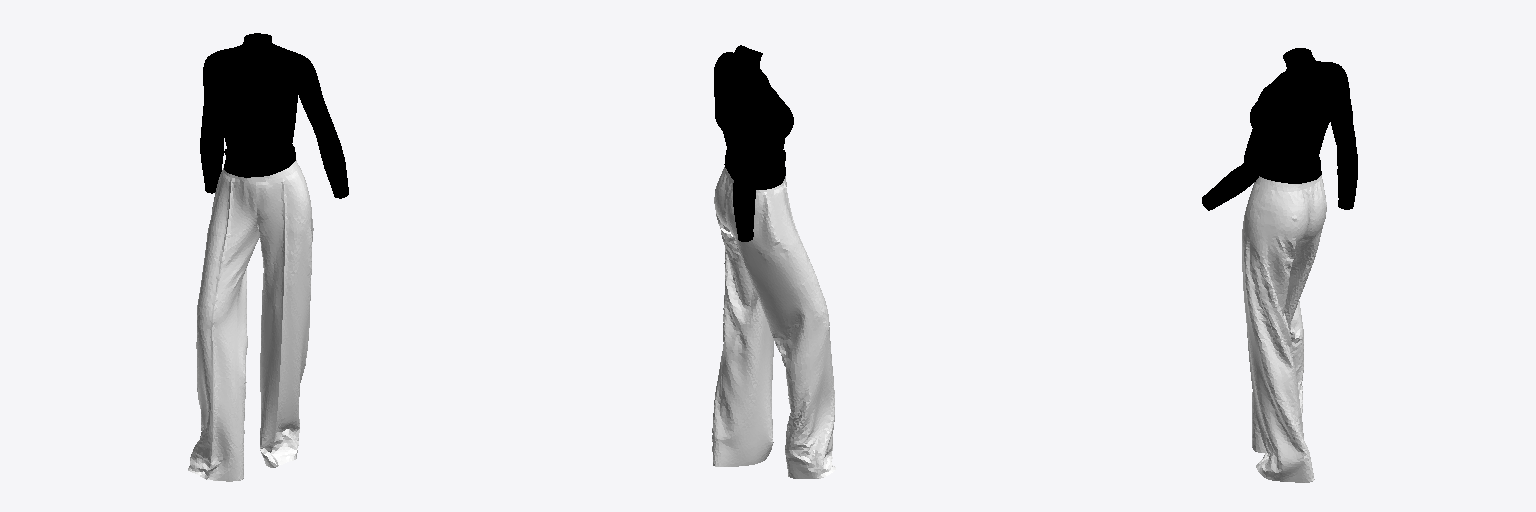
The model's file is DA_HighNeck+WidePants_0000084.obj.
3 views of the same model, side by side, from view 1: azimuth 30°, elevation 25°; view 2: azimuth 150°, elevation 25°; view 3: azimuth 270°, elevation 25° (orthographic).
Bounding box in the file's own units: 0.5357 × 1.63 × 0.5518.